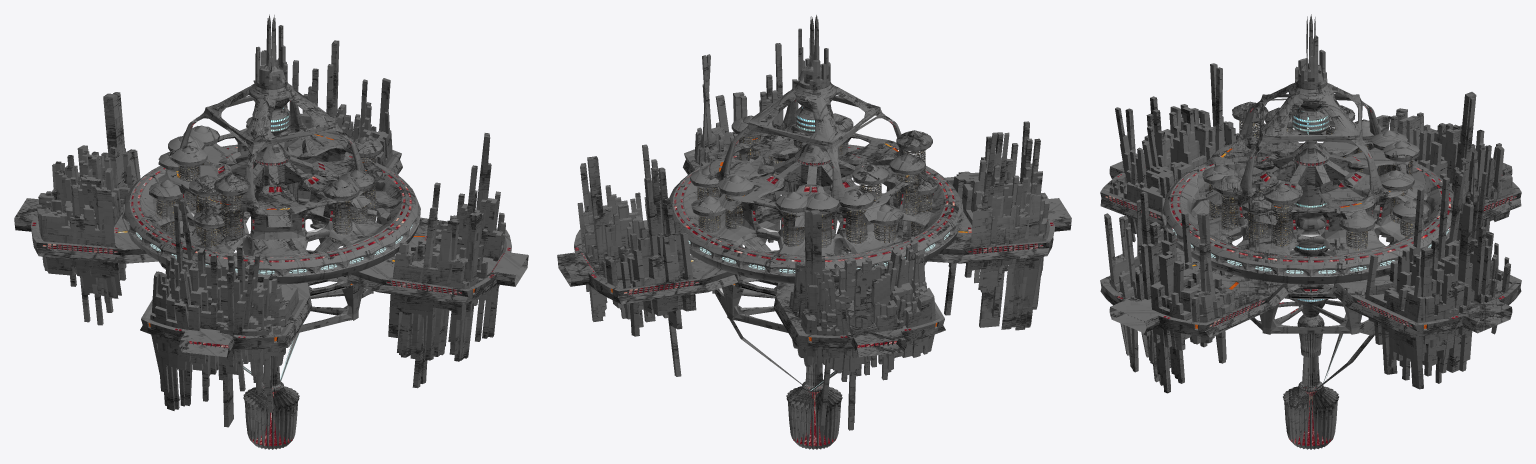
File: Freeport.gltf
3 views of the same model, side by side, from view 1: azimuth 30°, elevation 25°; view 2: azimuth 150°, elevation 25°; view 3: azimuth 270°, elevation 25° (orthographic).
Visible parts, largest first — view 1: Mesh_0; view 2: Mesh_0; view 3: Mesh_0.
Boxes of the visible parts, x1,y1,x2,y2 form: Mesh_0: (14,14,528,449); Mesh_0: (557,15,1071,449); Mesh_0: (1100,14,1521,449).
Size of the model in its own units: 116 by 130 by 116.
Materials: 9 (4 with a texture image).
